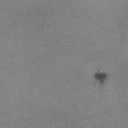iron sheet ash: (94, 72, 107, 84)
